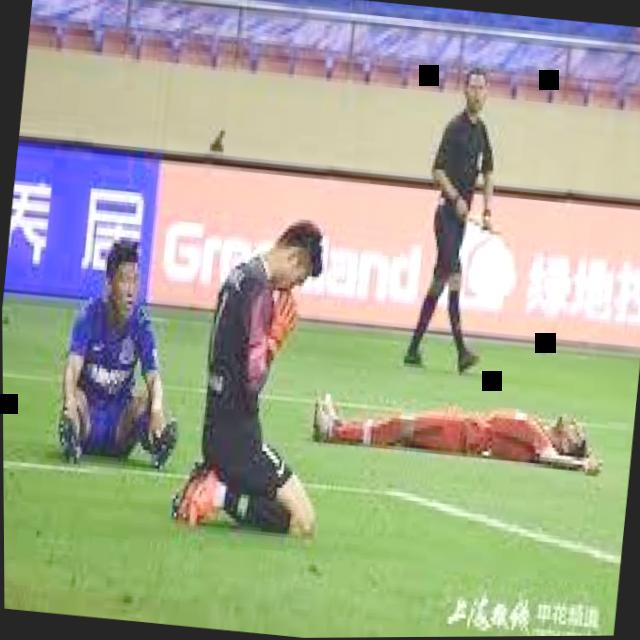Fall-Detected: (38, 216, 197, 485)
